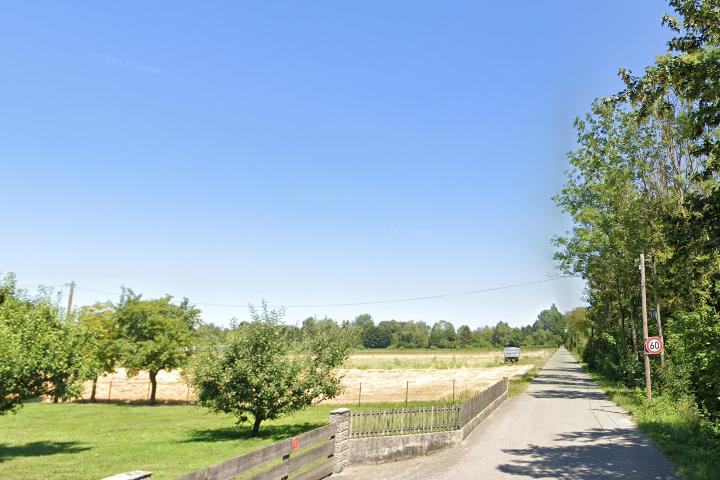traffic_sign: (645, 336, 663, 354)
